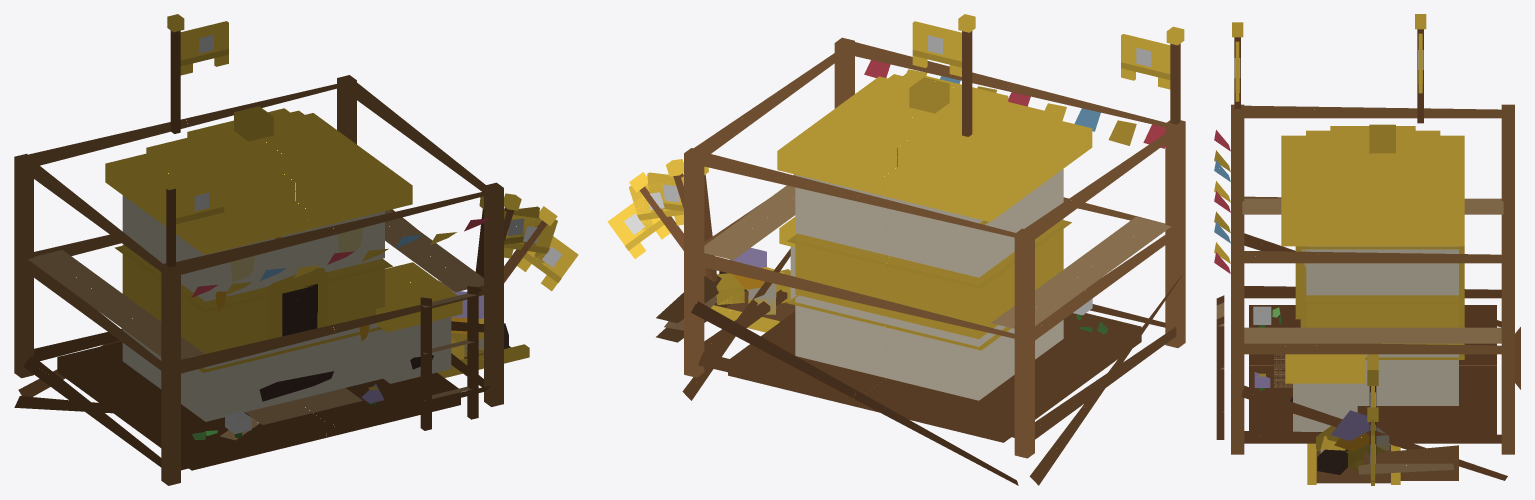
Rendered from bee-home_lod1.glb.
The picture shows the model from 3 angles, left to right: view 1: azimuth 30°, elevation 25°; view 2: azimuth 150°, elevation 25°; view 3: azimuth 270°, elevation 25°; orthographic projection. The views are drawn at different scales.
Visible parts, largest first — view 1: scaffold-mesh, built-mesh, dismantle-50-mesh, dismantle-75-mesh, scaffold-banner, banner, dismantle-25-mesh, dismantle-25-banner, flag-pole, dismantle-50-banner, scaffold-flag-pole, dismantle-25-flag-pole (+1 smaller); view 2: built-mesh, scaffold-mesh, dismantle-50-mesh, dismantle-75-mesh, dismantle-25-mesh, banner, scaffold-banner, dismantle-25-banner, flag-pole, scaffold-flag-pole, dismantle-50-banner, dismantle-75-banner (+1 smaller); view 3: scaffold-mesh, built-mesh, dismantle-50-mesh, dismantle-75-mesh, dismantle-25-mesh, flag-pole, scaffold-flag-pole, scaffold-banner.
Boxes of the visible parts, <box> form: scaffold-mesh: <box>14,75,503,485</box>; built-mesh: <box>105,106,462,470</box>; dismantle-50-mesh: <box>57,282,510,454</box>; dismantle-75-mesh: <box>114,195,483,439</box>; scaffold-banner: <box>176,179,224,233</box>; banner: <box>180,21,228,75</box>; dismantle-25-mesh: <box>375,291,529,402</box>; dismantle-25-banner: <box>517,231,578,291</box>; flag-pole: <box>167,14,184,133</box>; dismantle-50-banner: <box>504,215,557,262</box>; scaffold-flag-pole: <box>162,172,179,267</box>; dismantle-25-flag-pole: <box>504,206,557,282</box>; built-mesh: <box>728,71,1097,442</box>; scaffold-mesh: <box>656,37,1185,485</box>; dismantle-50-mesh: <box>716,217,1141,427</box>; dismantle-75-mesh: <box>716,169,1099,400</box>; dismantle-25-mesh: <box>711,248,1107,332</box>; banner: <box>912,21,961,76</box>; scaffold-banner: <box>1121,34,1170,89</box>; dismantle-25-banner: <box>607,196,670,258</box>; flag-pole: <box>958,14,975,136</box>; scaffold-flag-pole: <box>1166,26,1184,124</box>; dismantle-50-banner: <box>629,182,683,230</box>; dismantle-75-banner: <box>647,172,683,212</box>; scaffold-mesh: <box>1214,104,1520,480</box>; built-mesh: <box>1249,124,1496,434</box>; dismantle-50-mesh: <box>1249,305,1496,483</box>; dismantle-75-mesh: <box>1254,246,1464,471</box>; dismantle-25-mesh: <box>1277,307,1400,484</box>; flag-pole: <box>1415,14,1426,123</box>; scaffold-flag-pole: <box>1232,22,1243,108</box>; scaffold-banner: <box>1234,41,1240,101</box>.
Bounding box in the file's own units: 2.74 × 2.11 × 1.61.
